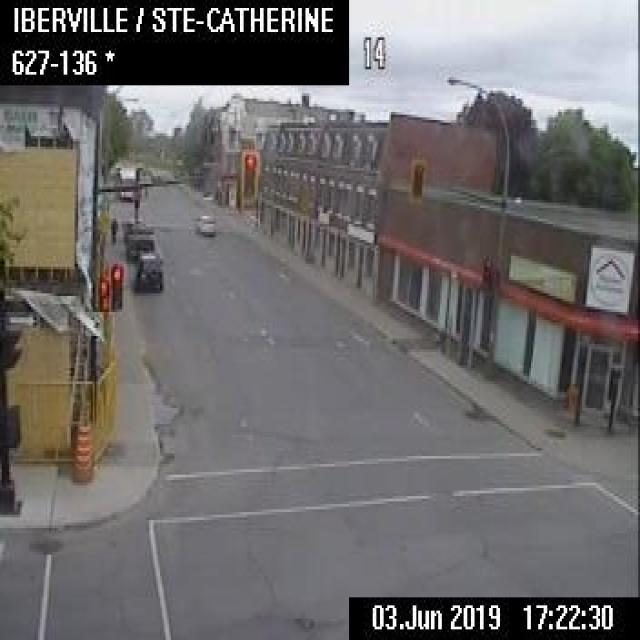bus: (115, 164, 136, 200)
construction: (72, 418, 92, 481)
pedestrian: (108, 215, 116, 243)
vehicle: (122, 218, 154, 259), (133, 250, 163, 289), (194, 213, 214, 235)
